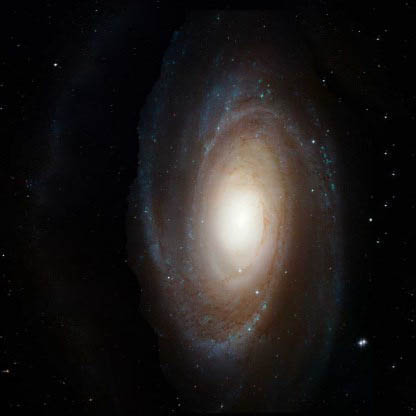Messier 81: (105, 22, 378, 383)
